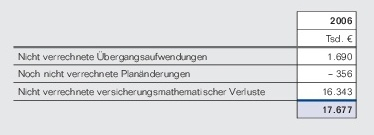table: (0, 0, 374, 135)
